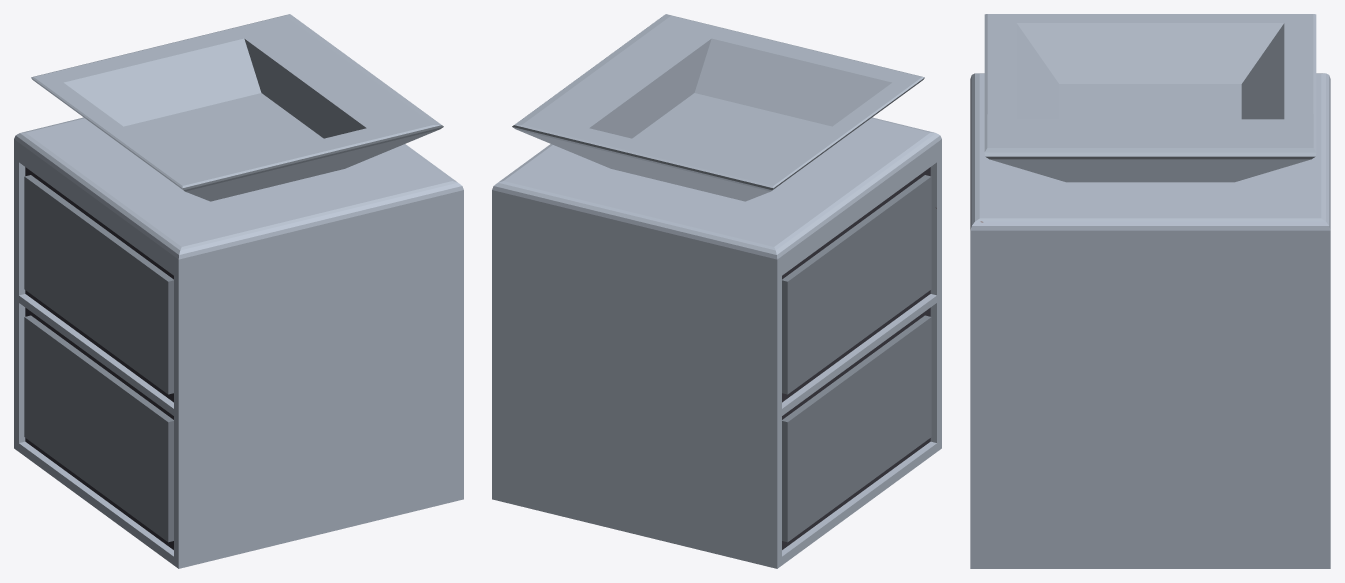
Rendered from Sink.fbx.
3 renders of one model, left to right at view 1: azimuth 30°, elevation 25°; view 2: azimuth 150°, elevation 25°; view 3: azimuth 270°, elevation 25°, orthographic. The views are drawn at different scales.
Parts seen in each view (by area): view 1: Sink; view 2: Sink; view 3: Sink.
Boxes of the visible parts, box(x1,y1,x2,y2) form: Sink: box(14, 14, 463, 568); Sink: box(492, 14, 941, 568); Sink: box(970, 14, 1330, 568).
Size of the model in its own units: 60 by 75.23 by 60.
